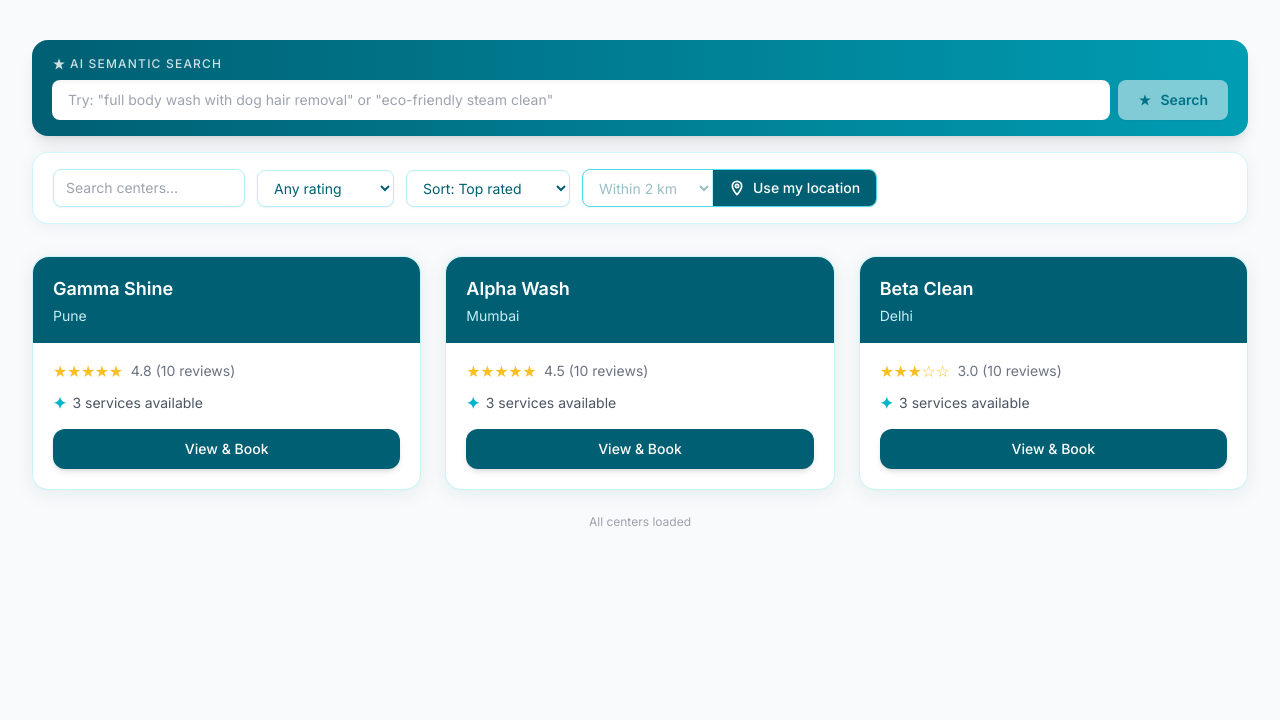
Test: CentersListClient — text filter › hides centers whose name does not match the typed query
Step 1. Type "alpha" into the search field → (149,188), box [53,169,245,207]
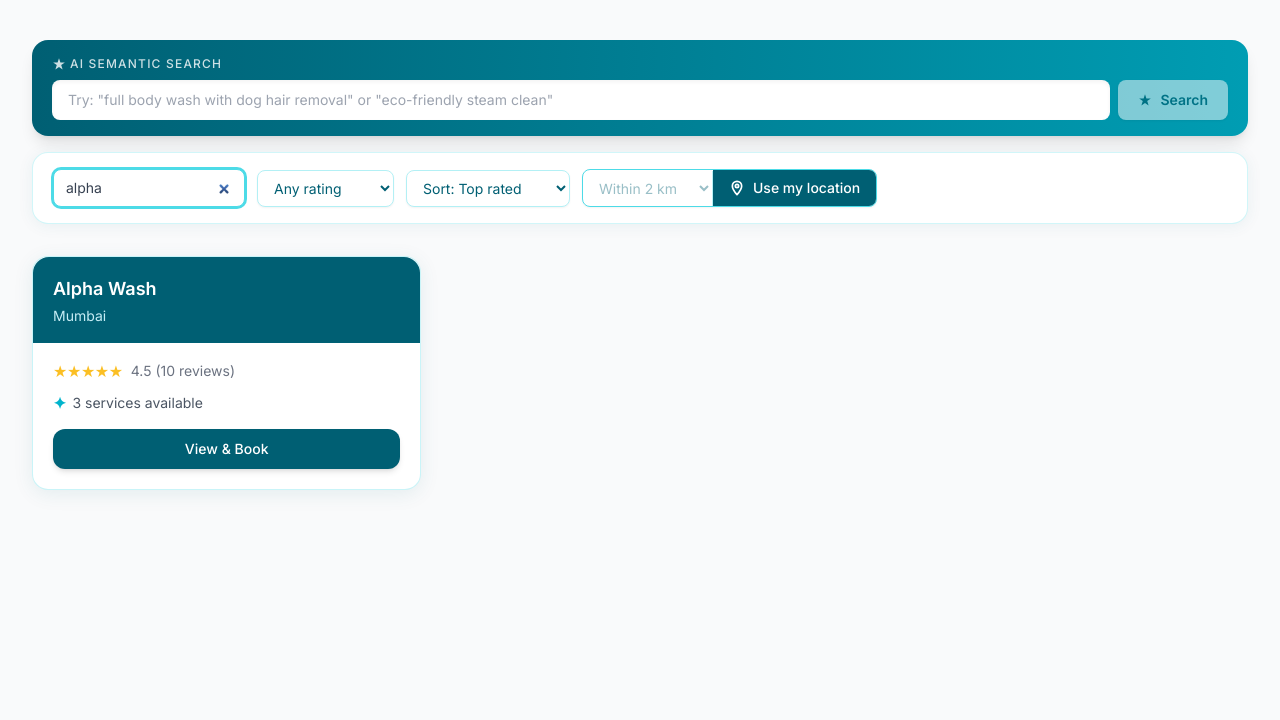
Expected: the heading "Alpha Wash" is shown, [53,277,156,302]
Result: the heading "Beta Clean" is gone
Result: the heading "Gamma Shine" is gone
